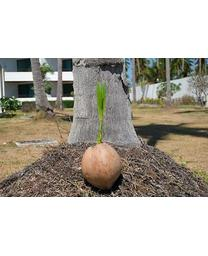coconut: (78, 141, 125, 191)
